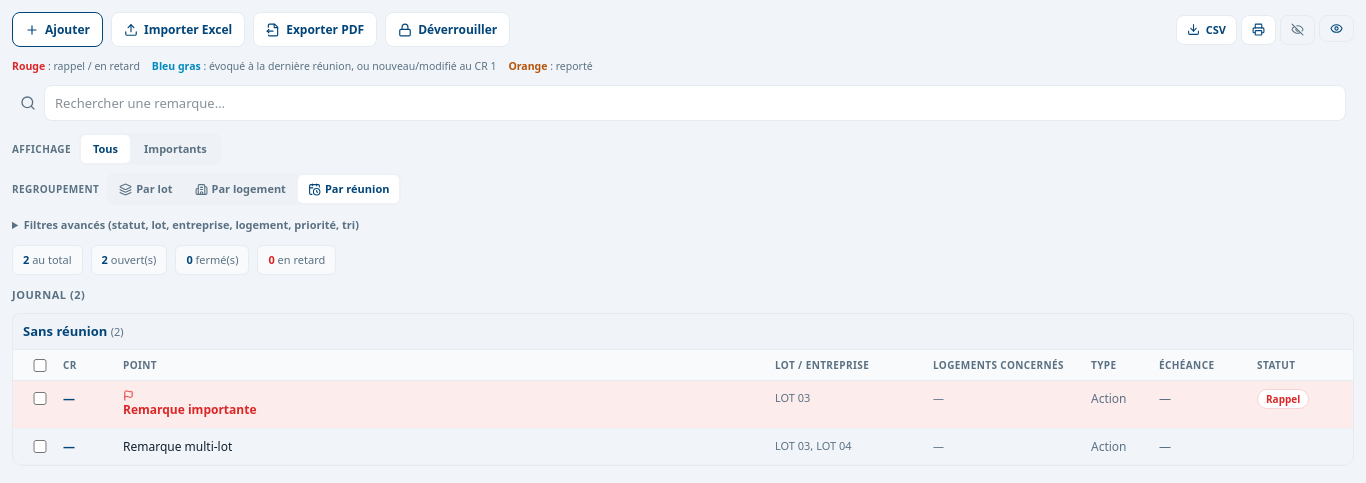
Test: sprint — Affichage : Tous / Importants › « Importants » ne garde que les remarques marquées rappel
Click the button "Importants" at coordinates (175, 149), box [132, 136, 219, 163]
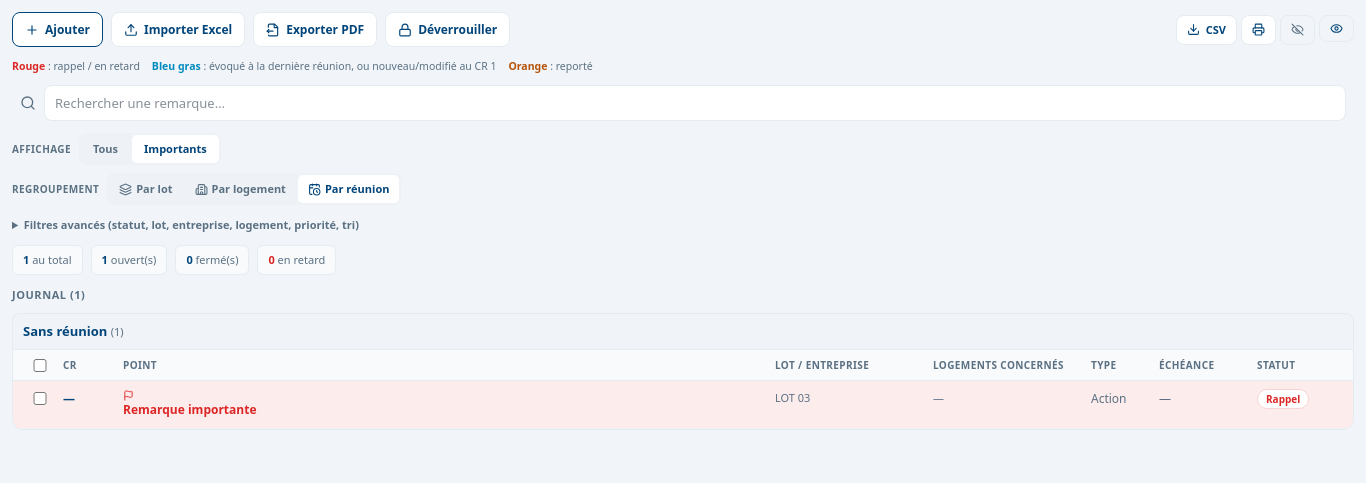
Expected: the text "Remarque importante" is shown, [123, 390, 256, 418]
Expected: the text "Remarque multi-lot" is gone
